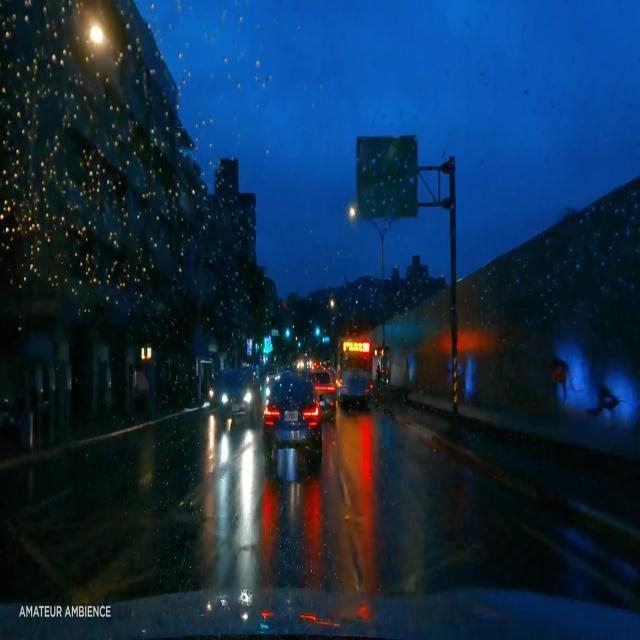Car: (263, 367, 319, 461), (217, 368, 258, 418)
